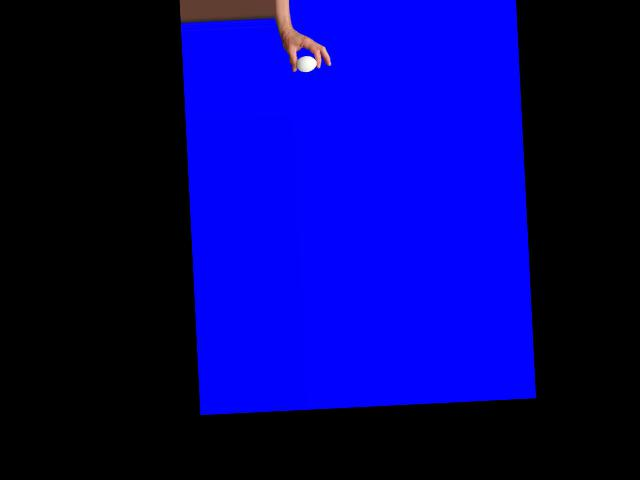egg: (295, 55, 317, 72)
